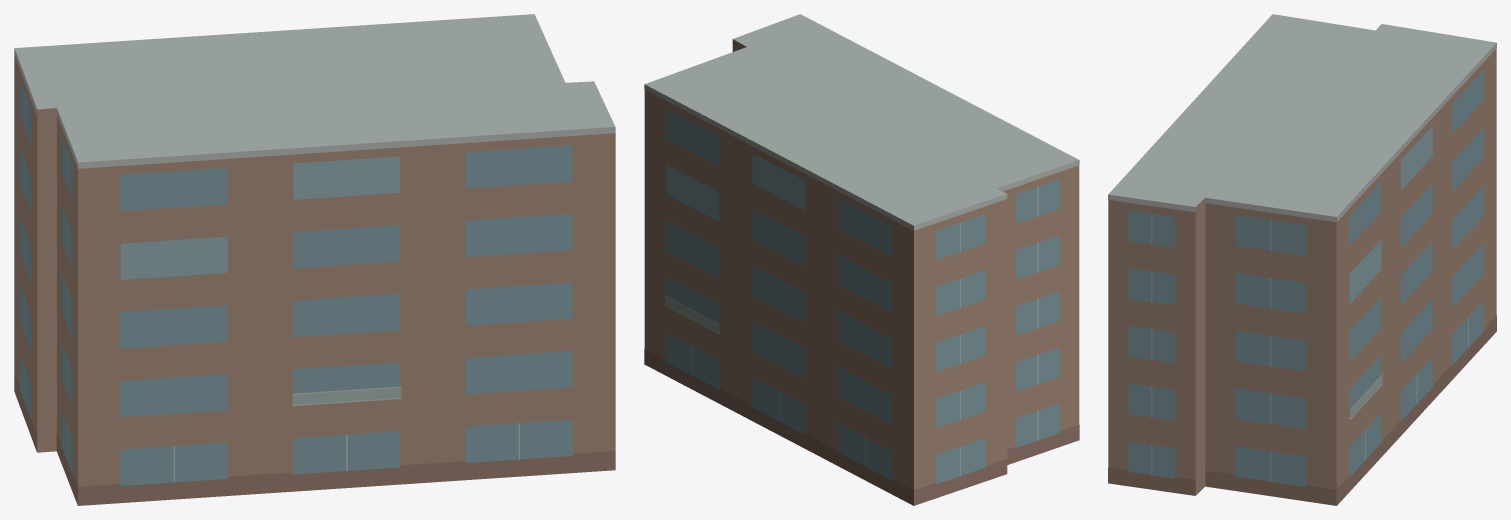
Rendered from survey-upis-32669416.glb.
3 renders of one model, left to right at view 1: azimuth 30°, elevation 25°; view 2: azimuth 150°, elevation 25°; view 3: azimuth 270°, elevation 25°, orthographic. The views are drawn at different scales.
Parts seen in each view (by area): view 1: survey-upis-32669416.tmp; view 2: survey-upis-32669416.tmp; view 3: survey-upis-32669416.tmp.
Part boxes in pixels (x1,y1,x2,y2): survey-upis-32669416.tmp: (14, 14, 615, 505); survey-upis-32669416.tmp: (644, 14, 1079, 505); survey-upis-32669416.tmp: (1108, 14, 1496, 505).
Size of the model in its own units: 20.07 by 13.3 by 16.23.
